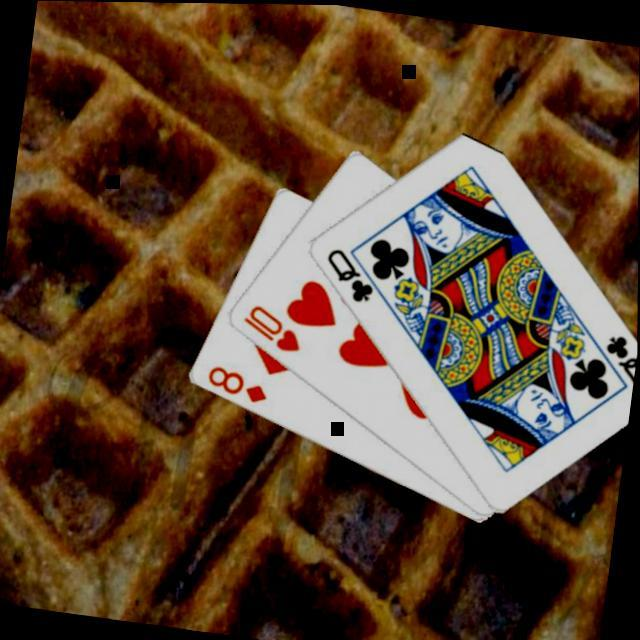10H: (235, 297, 307, 356)
8D: (200, 359, 273, 406)
QC: (317, 241, 380, 306), (595, 325, 638, 387)
